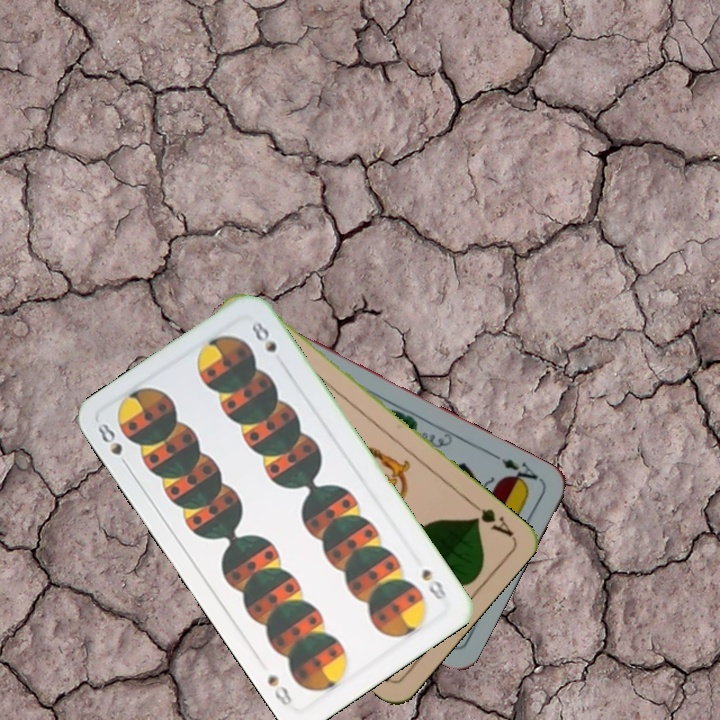EA: (497, 454, 543, 490)
GA: (465, 497, 516, 540)
S8: (93, 418, 133, 472), (417, 564, 450, 603)
